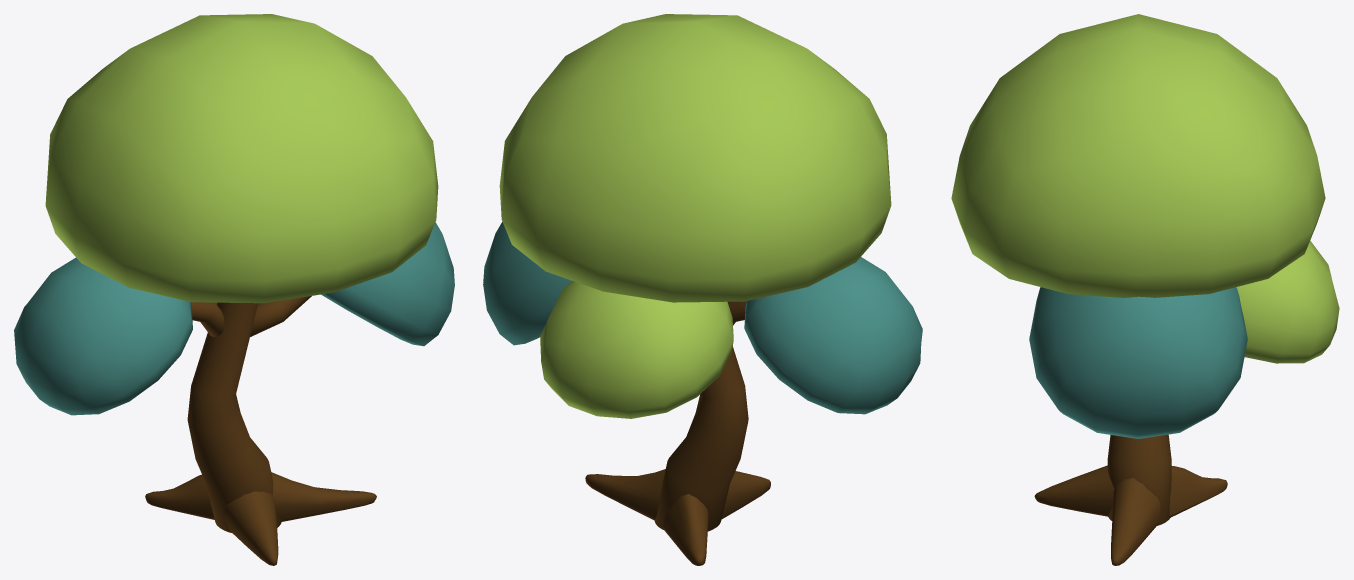
File: tree13.fbx
3 views of the same model, side by side, from view 1: azimuth 30°, elevation 25°; view 2: azimuth 150°, elevation 25°; view 3: azimuth 270°, elevation 25° (orthographic). The views are drawn at different scales.
Parts seen in each view (by area): view 1: tree13; view 2: tree13; view 3: tree13.
Boxes of the visible parts, x1,y1,x2,y2 form: tree13: (14, 14, 454, 565); tree13: (483, 14, 922, 565); tree13: (951, 14, 1339, 565).
Bounding box in the file's own units: 756 × 886 × 647.
